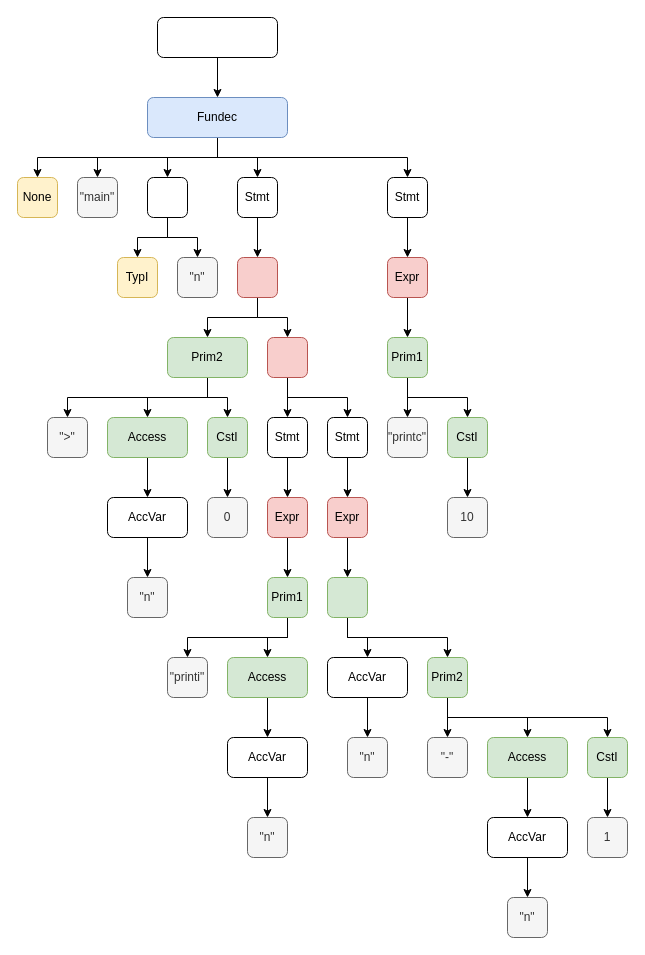
Image size: 645x955. Some labels were removed from this diagram. The centre of each missing label's shape, as x and y in pixels:
"Assign" goes at point 347,597.
"Block" goes at point 287,357.
"Prog" goes at point 217,37.
"While" goes at point 257,277.
